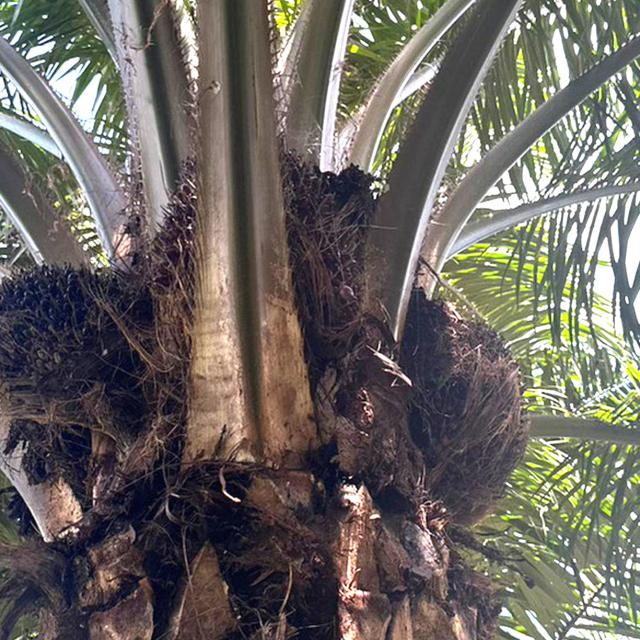ripe: (156, 156, 368, 399), (0, 249, 157, 424), (422, 305, 514, 530)
